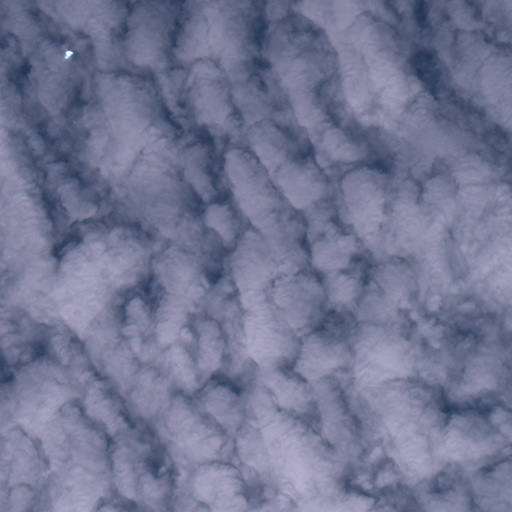Iceberg: (65, 51, 73, 58)
